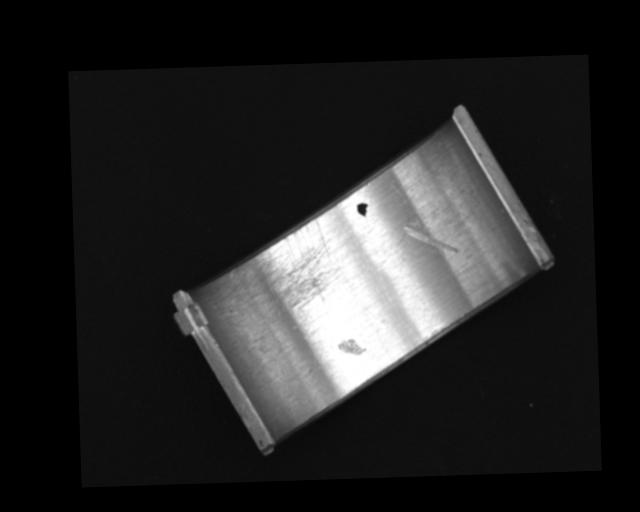blot: (356, 201, 369, 217)
bruise: (336, 337, 367, 355)
nick: (402, 224, 458, 254), (389, 182, 409, 251)
scratch: (235, 216, 346, 314)
